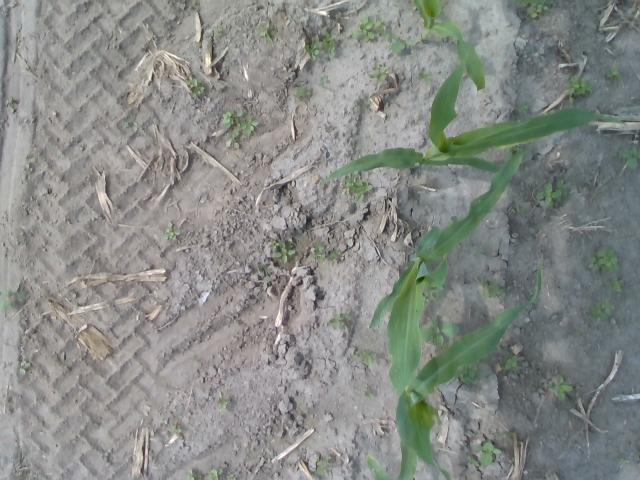Maize: (323, 52, 622, 172), (387, 252, 544, 480), (367, 148, 526, 322), (408, 0, 488, 93), (364, 454, 416, 480)
Weeds: (221, 108, 258, 148), (417, 316, 460, 346), (304, 29, 339, 61), (352, 14, 388, 42), (563, 74, 596, 104), (341, 172, 374, 202), (536, 178, 568, 207), (468, 442, 502, 467), (0, 283, 29, 312), (588, 248, 620, 274), (514, 0, 556, 19), (547, 374, 573, 402), (455, 361, 483, 386), (269, 240, 296, 264), (478, 276, 506, 299), (586, 298, 614, 321), (617, 144, 640, 170), (389, 33, 417, 54), (367, 61, 389, 85), (352, 347, 377, 368), (422, 283, 444, 306), (326, 312, 351, 330), (184, 78, 204, 99), (313, 454, 332, 476), (604, 63, 623, 82), (502, 352, 520, 371), (258, 23, 276, 42), (163, 222, 181, 241), (416, 69, 432, 85), (294, 86, 312, 99), (314, 243, 326, 262), (184, 469, 204, 480), (515, 100, 529, 114), (18, 360, 31, 375), (207, 468, 223, 480), (218, 393, 230, 409), (609, 279, 623, 292), (330, 249, 341, 263), (170, 426, 184, 436), (259, 264, 269, 277), (212, 24, 222, 36), (449, 215, 458, 224), (516, 206, 526, 214), (364, 390, 374, 398), (318, 75, 328, 83), (618, 458, 629, 465), (28, 156, 38, 163), (228, 473, 237, 480), (124, 121, 130, 128)
